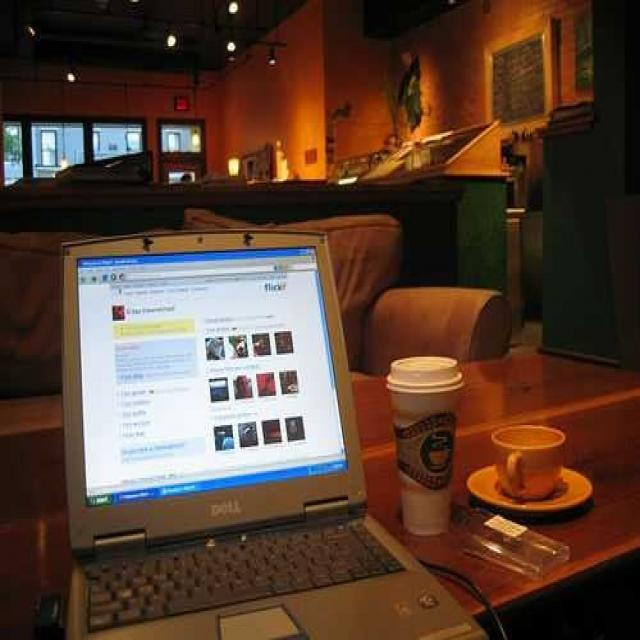laptop: (37, 230, 487, 640)
